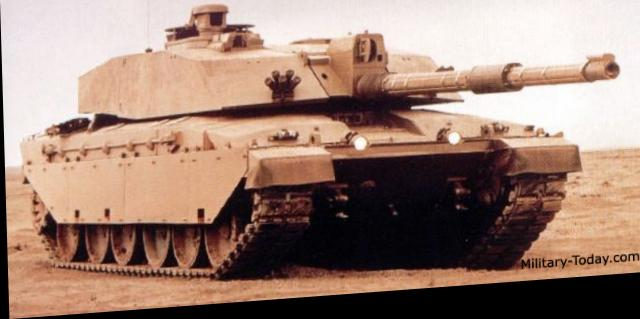tank: (15, 0, 586, 288)
